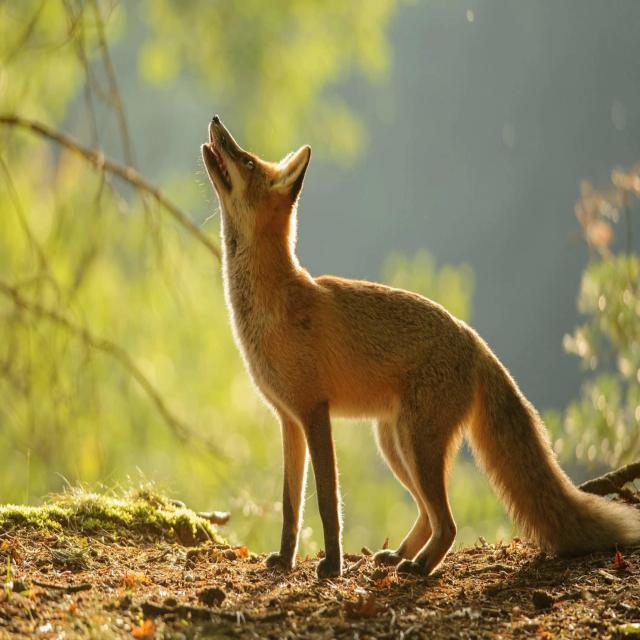fox: (202, 116, 640, 578)
